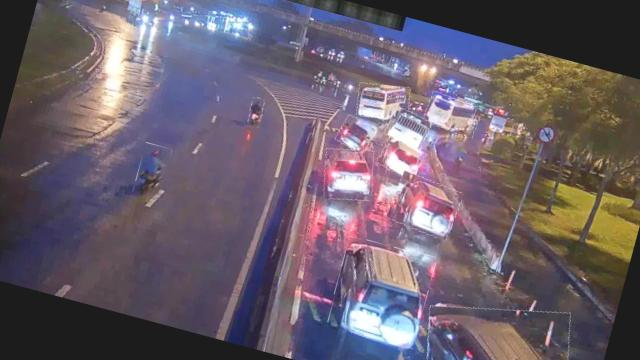Bike: (133, 142, 173, 199), (246, 97, 266, 127)
Bus: (352, 77, 413, 126), (421, 90, 482, 138)
Car: (411, 285, 583, 360), (325, 234, 437, 348), (386, 170, 464, 240), (316, 142, 381, 206), (376, 136, 425, 180), (334, 114, 376, 154)
Truck: (383, 106, 432, 150)
